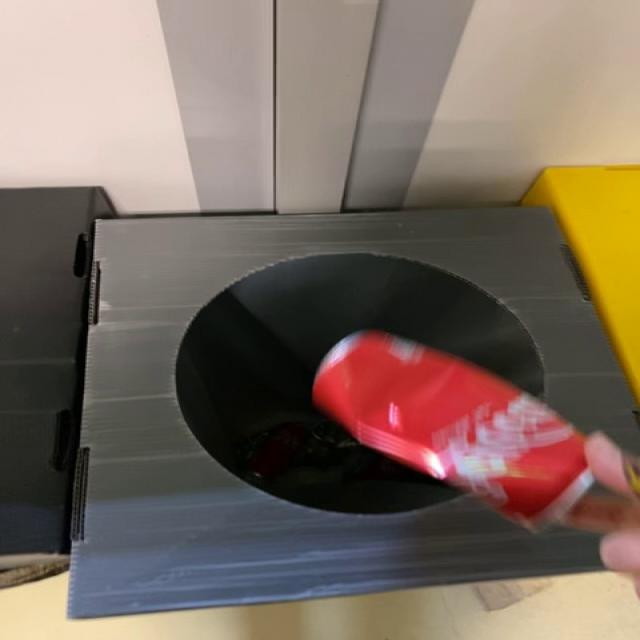bin: (67, 209, 637, 618)
metal: (312, 331, 593, 530)
